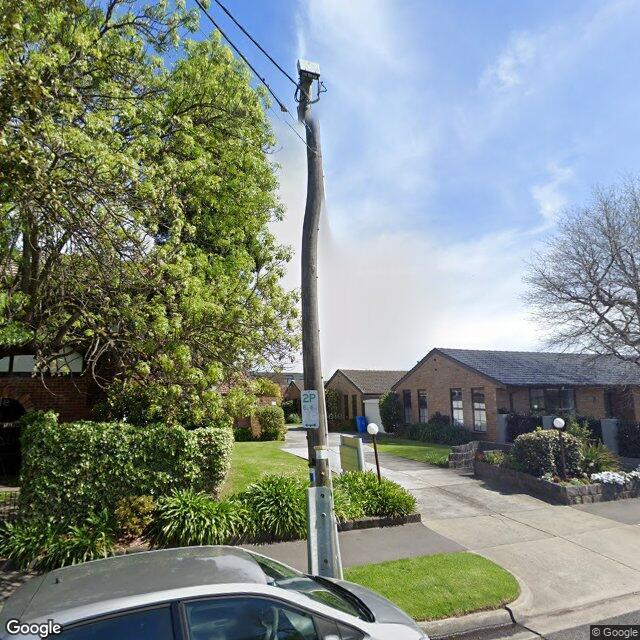timber-pole: (300, 116, 343, 577)
